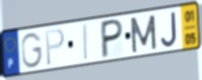G: (20, 32, 44, 70)
I: (83, 22, 90, 63)
J: (160, 10, 179, 48)
M: (128, 13, 159, 55)
P: (100, 17, 125, 61), (44, 26, 66, 68)
